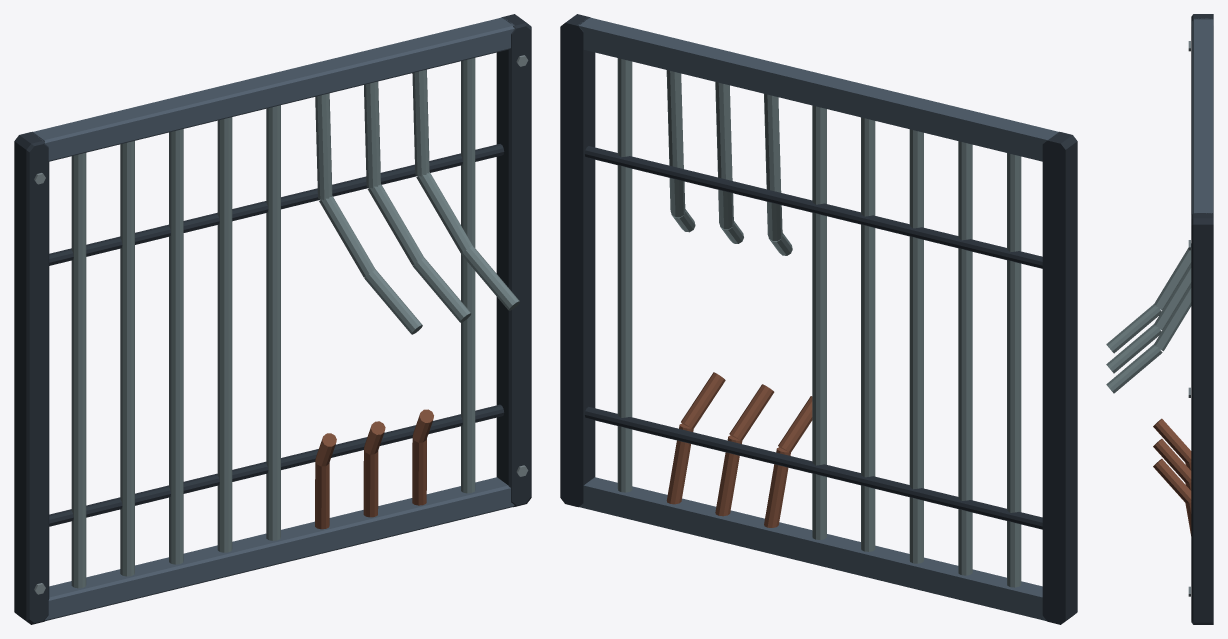
File: S-04_bent_grate.glb
3 views of the same model, side by side, from view 1: azimuth 30°, elevation 25°; view 2: azimuth 150°, elevation 25°; view 3: azimuth 270°, elevation 25° (orthographic). The views are drawn at different scales.
Parts seen in each view (by area): view 1: S-04_bent_grate; view 2: S-04_bent_grate; view 3: S-04_bent_grate.
Part boxes in pixels (x1=…): S-04_bent_grate: x1=14, y1=14, x2=531, y2=624; S-04_bent_grate: x1=560, y1=14, x2=1077, y2=624; S-04_bent_grate: x1=1106, y1=14, x2=1213, y2=624.
Bounding box in the file's own units: 1.26 × 1.14 × 0.2745.
